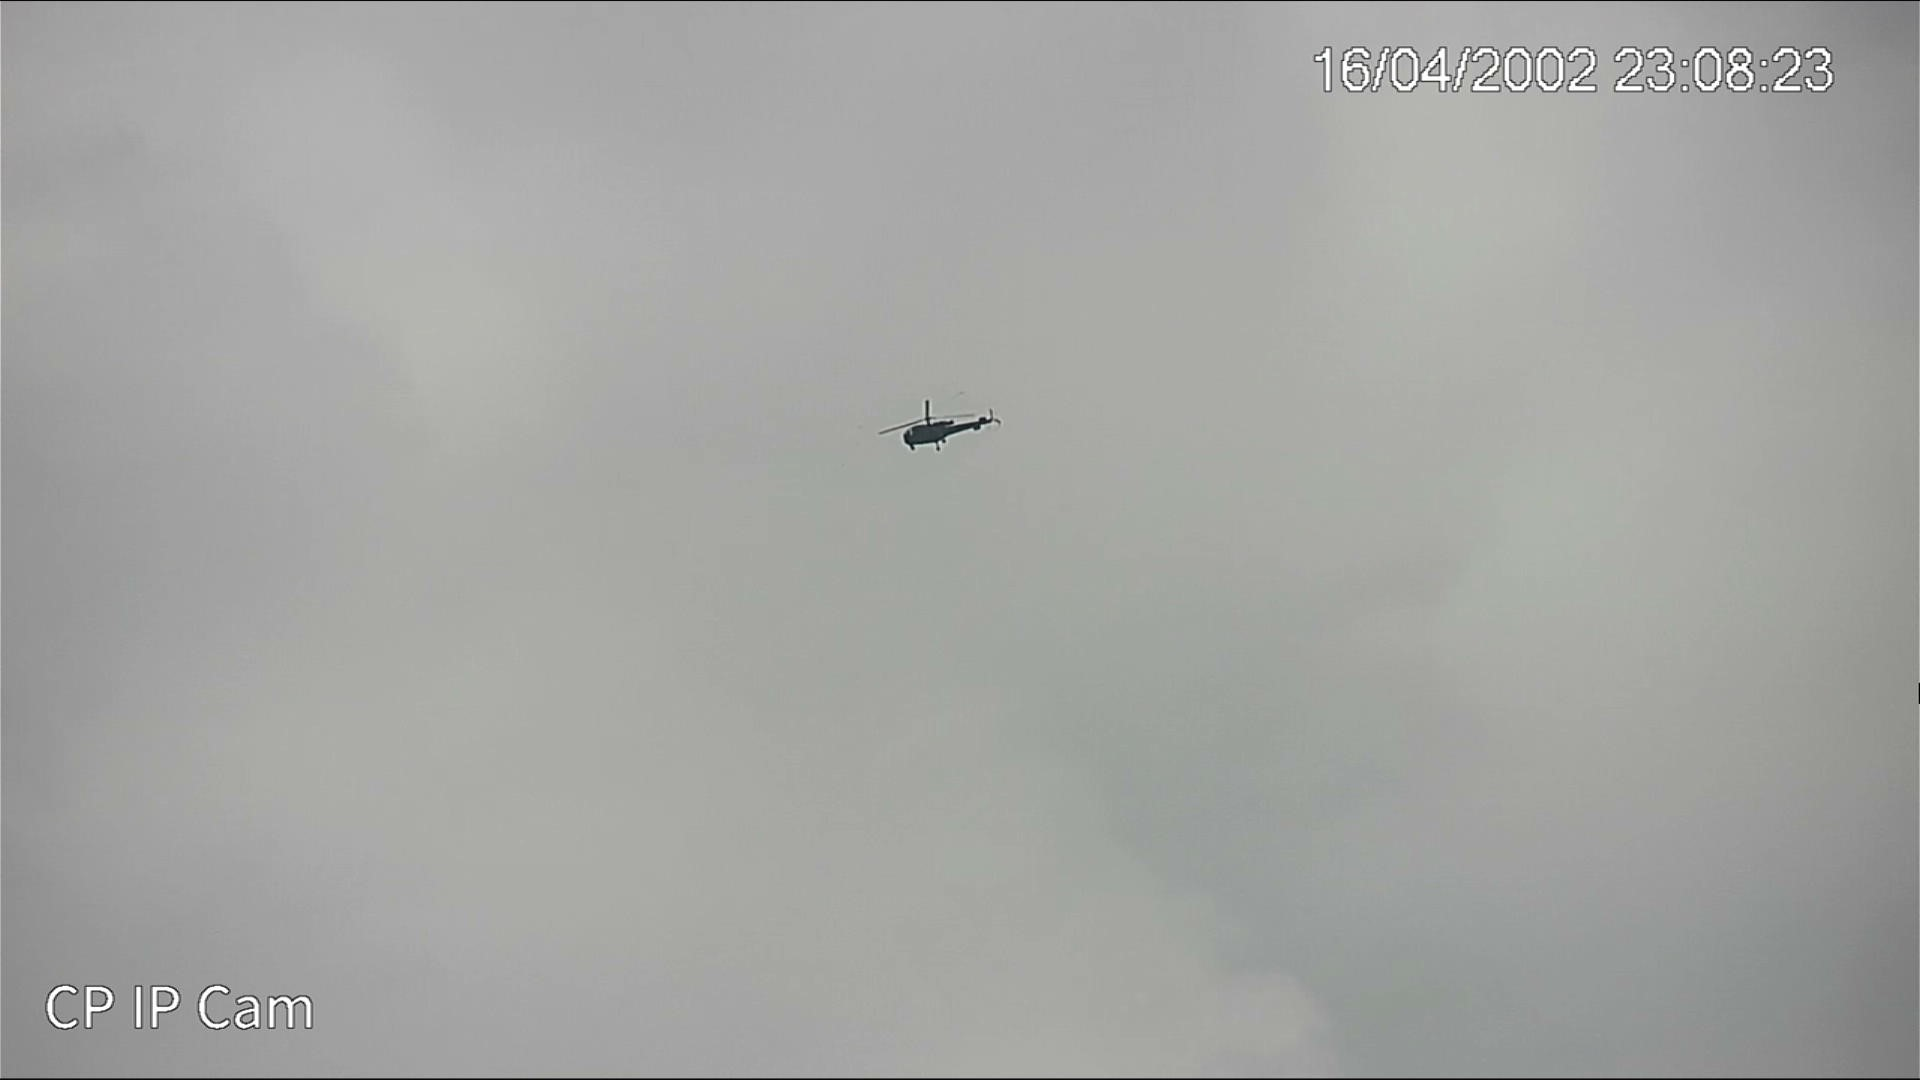SU_30: (884, 400, 1000, 451)
